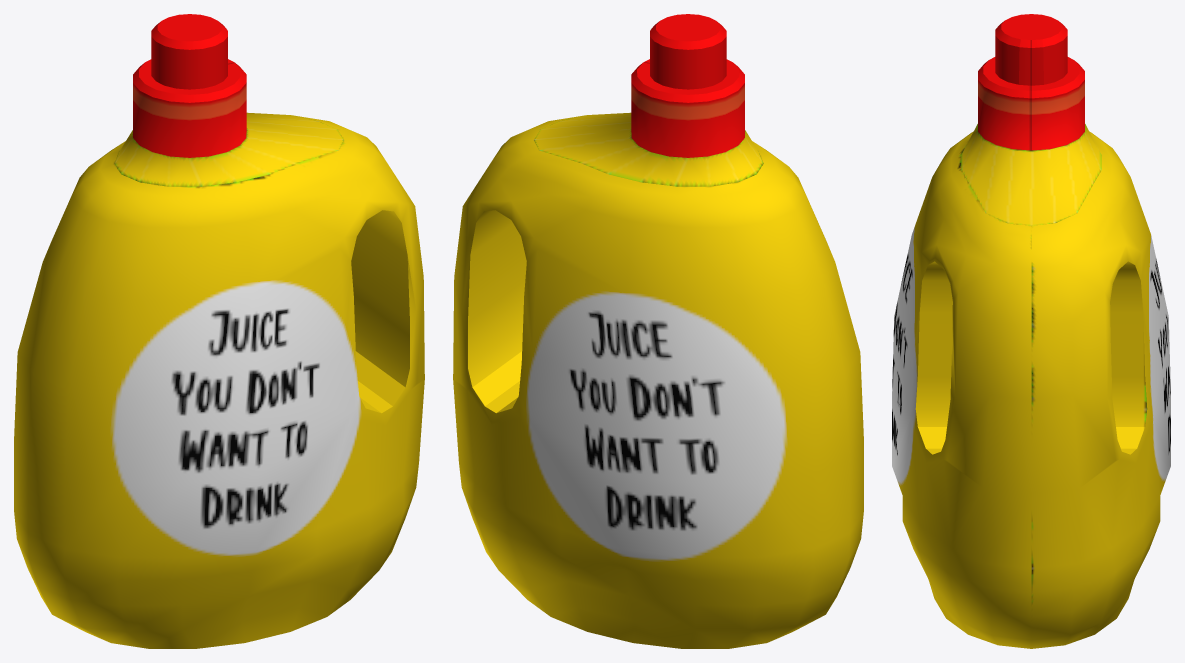
Rendered from Detergent.FBX.
3 views of the same model, side by side, from view 1: azimuth 30°, elevation 25°; view 2: azimuth 150°, elevation 25°; view 3: azimuth 270°, elevation 25° (orthographic). The views are drawn at different scales.
Parts seen in each view (by area): view 1: Cylinder001; view 2: Cylinder001; view 3: Cylinder001.
Boxes of the visible parts, box(x1,y1,x2,y2) form: Cylinder001: box(14, 14, 424, 648); Cylinder001: box(453, 14, 863, 648); Cylinder001: box(892, 14, 1170, 648).
Bounding box in the file's own units: 2274 × 1511 × 3280.
Materials: 1 (1 with a texture image).
